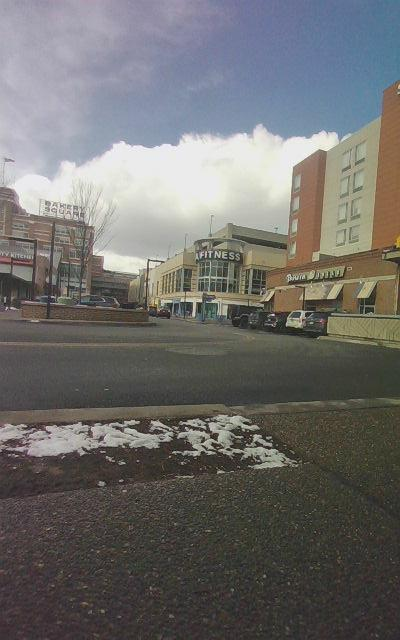curb: (0, 400, 399, 639)
road: (1, 318, 399, 410)
